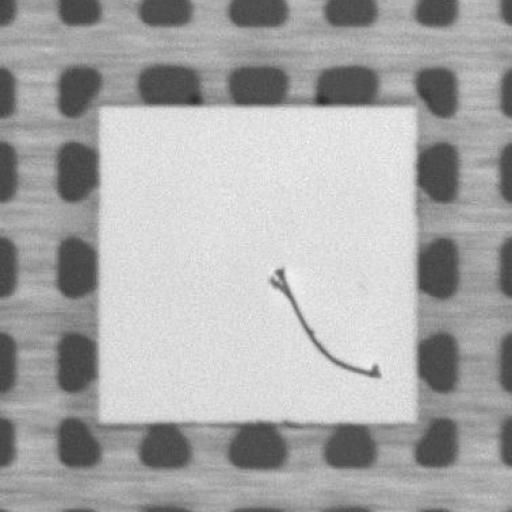DIE_INK: (262, 262, 384, 384)
